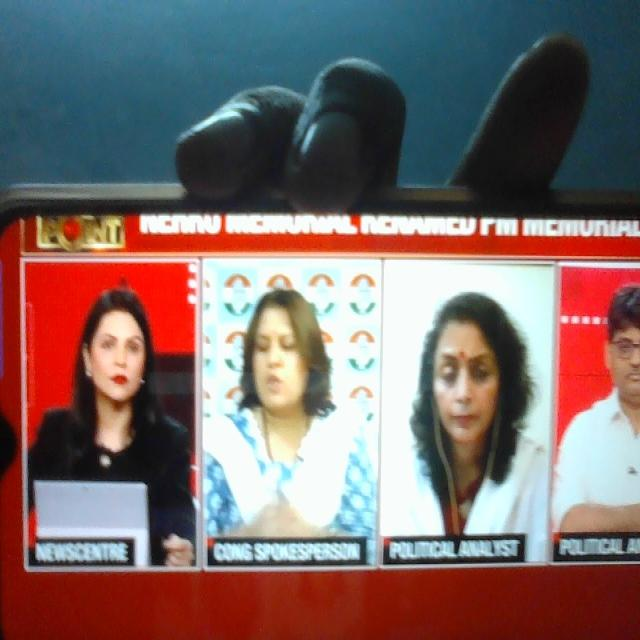fake: (414, 281, 520, 483)
